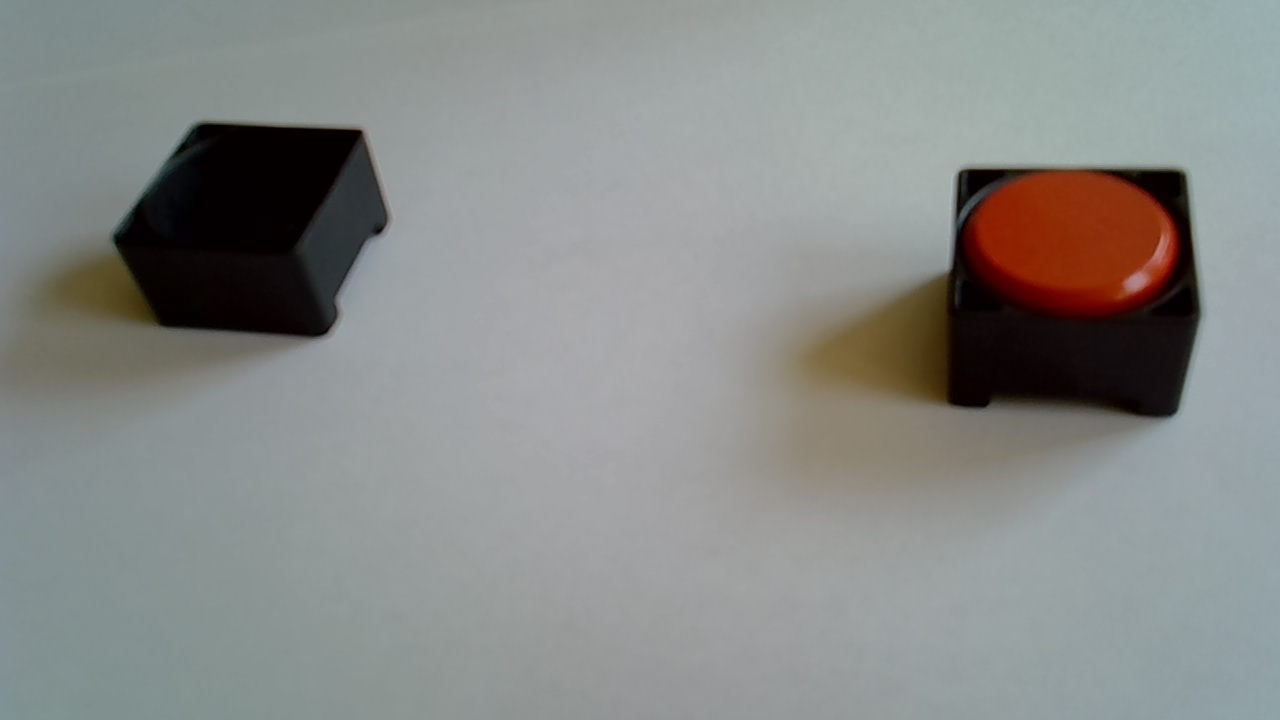Behaelter: (946, 169, 1199, 421), (109, 123, 392, 337)
WerkStueck: (960, 171, 1184, 311)
